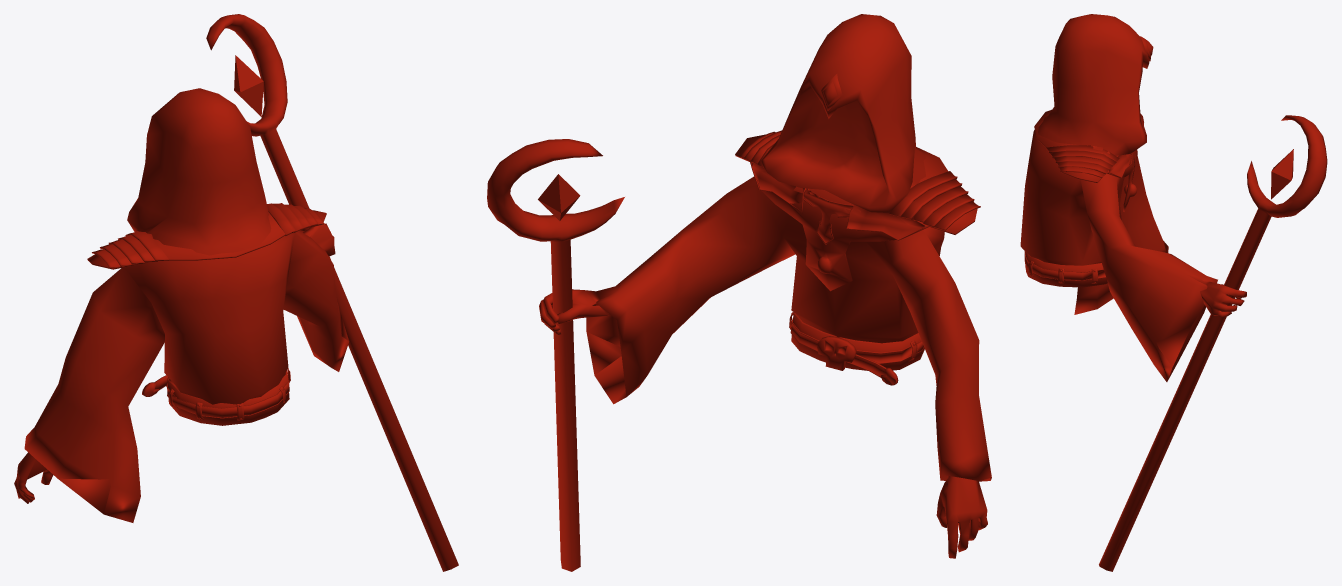
File: top_000071.obj
The picture shows the model from 3 angles, left to right: view 1: azimuth 30°, elevation 25°; view 2: azimuth 150°, elevation 25°; view 3: azimuth 270°, elevation 25°; orthographic projection. The views are drawn at different scales.
Visible parts, largest first — view 1: LowPoly_Warlock.000_Plane.005; view 2: LowPoly_Warlock.000_Plane.005; view 3: LowPoly_Warlock.000_Plane.005.
Part boxes in pixels (x1=…): LowPoly_Warlock.000_Plane.005: x1=14, y1=14, x2=458, y2=571; LowPoly_Warlock.000_Plane.005: x1=487, y1=14, x2=991, y2=571; LowPoly_Warlock.000_Plane.005: x1=1020, y1=14, x2=1327, y2=571.
Size of the model in its own units: 1.5 by 1.9 by 1.17.
